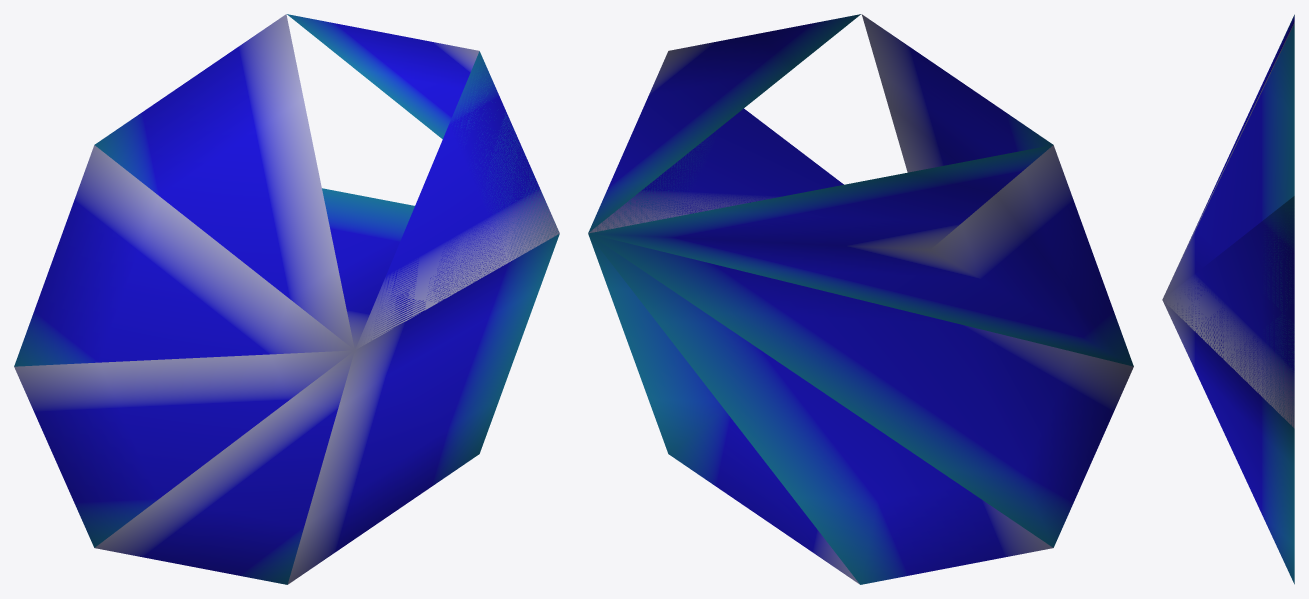
The picture shows the model from 3 angles, left to right: view 1: azimuth 30°, elevation 25°; view 2: azimuth 150°, elevation 25°; view 3: azimuth 270°, elevation 25°; orthographic projection. The views are drawn at different scales.
Parts seen in each view (by area): view 1: T1L4M003_19; view 2: T1L4M003_19; view 3: T1L4M003_19.
Part boxes in pixels (x1,y1,x2,y2): T1L4M003_19: (14,14,559,584); T1L4M003_19: (588,14,1133,584); T1L4M003_19: (1162,14,1294,584).
Bounding box in the file's own units: 0.458 × 0.458 × 0.0996.
